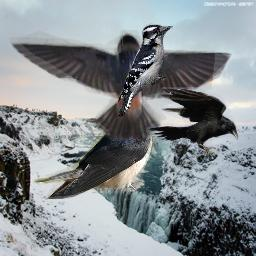Crow: (146, 87, 239, 155)
Swallow: (4, 30, 234, 141), (33, 103, 153, 199)
Woodpecker: (117, 23, 173, 118)
